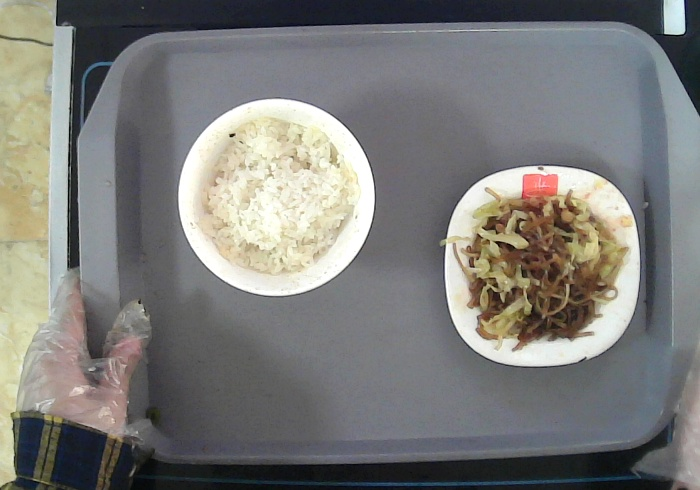SHKJ-Bai_Se_Si_Fang_Cai_Die: (444, 166, 640, 367)
SHKJ-Fan_Wan: (177, 96, 375, 296)
